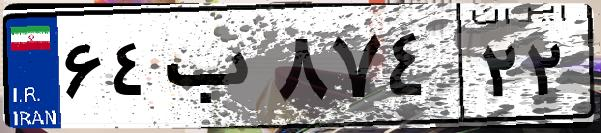2: (475, 38, 525, 113), (525, 38, 570, 115)
4: (385, 28, 445, 110), (110, 28, 158, 98)
6: (57, 26, 110, 100)
7: (330, 28, 385, 110)
8: (270, 28, 330, 110)
ب: (158, 20, 270, 120)
